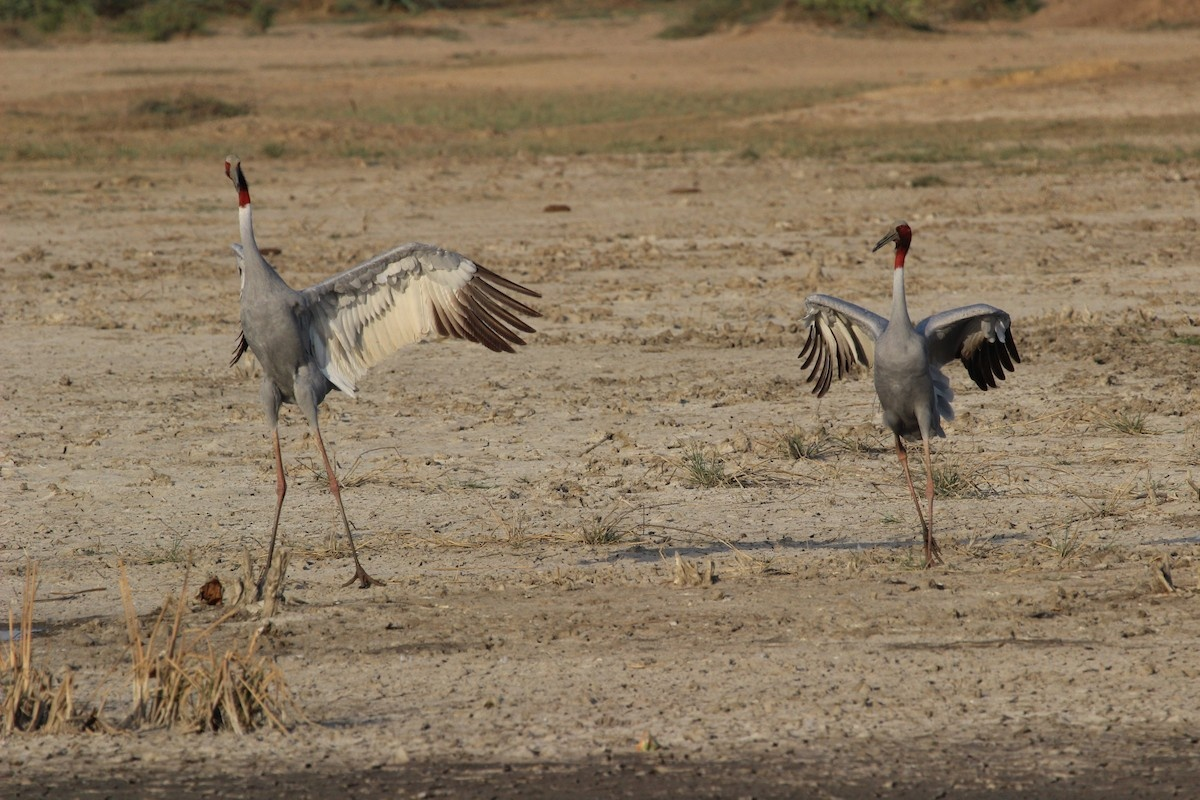crane: (219, 149, 540, 607), (799, 214, 1022, 568)
